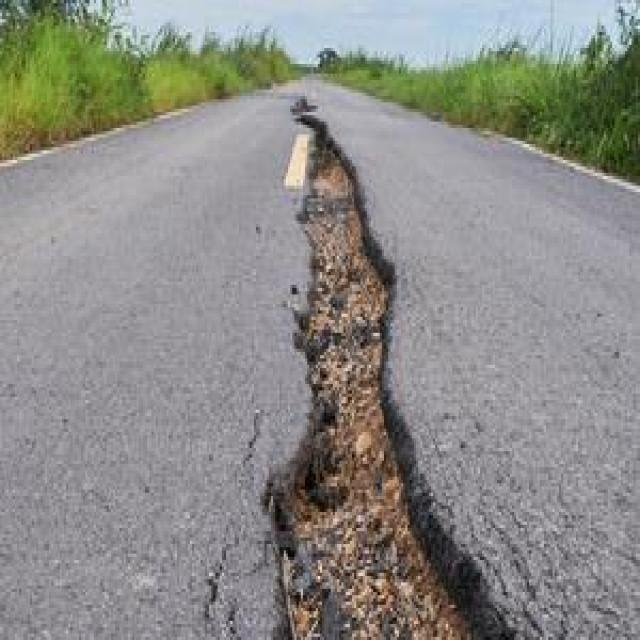road collapse: (187, 83, 638, 640)
